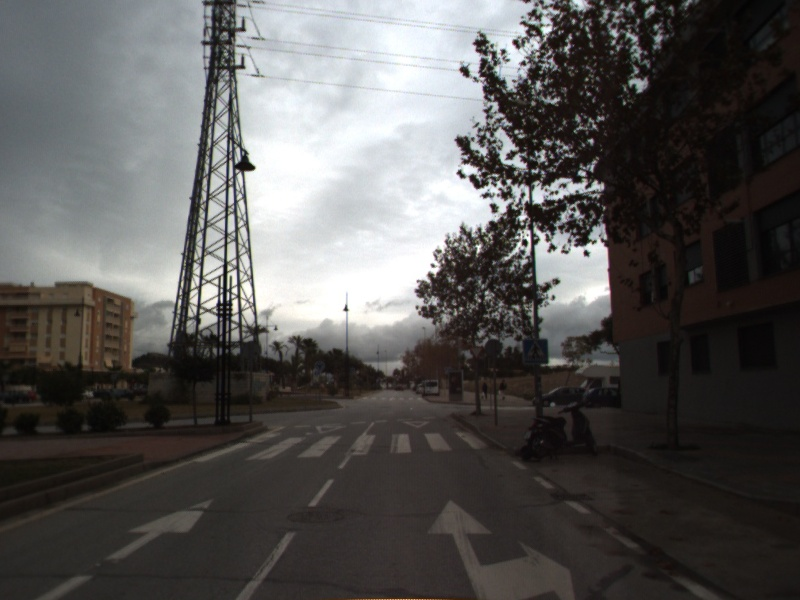STRAIGHT: (31, 495, 217, 600)
STRAIGHT_RIGHT: (424, 497, 577, 600)
